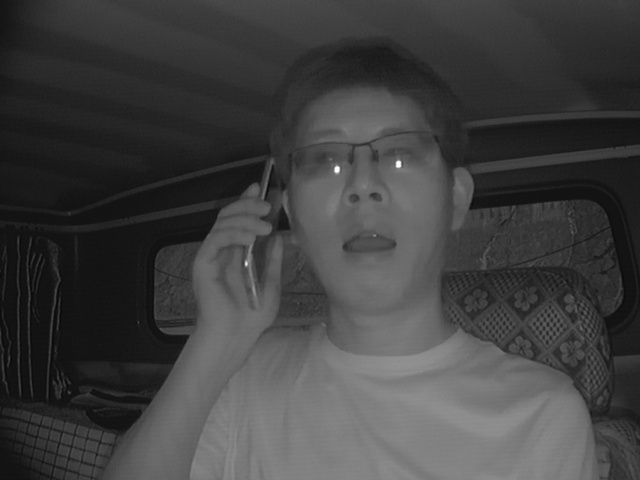hand: (185, 185, 289, 331)
